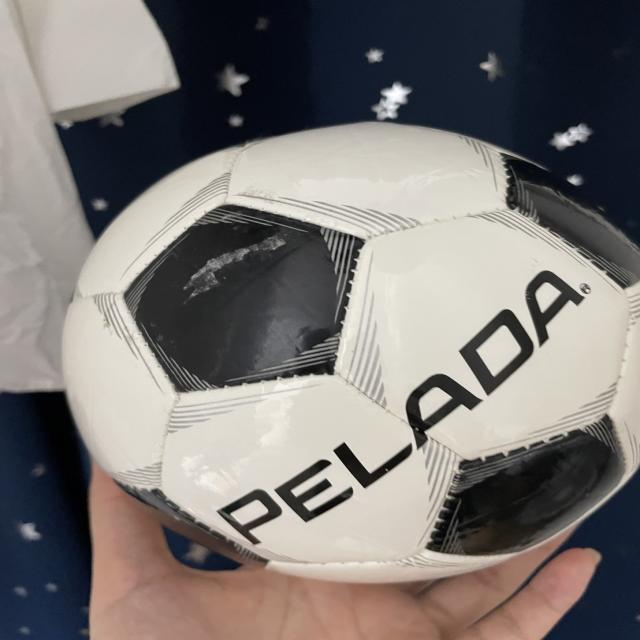ball: (60, 119, 640, 585)
